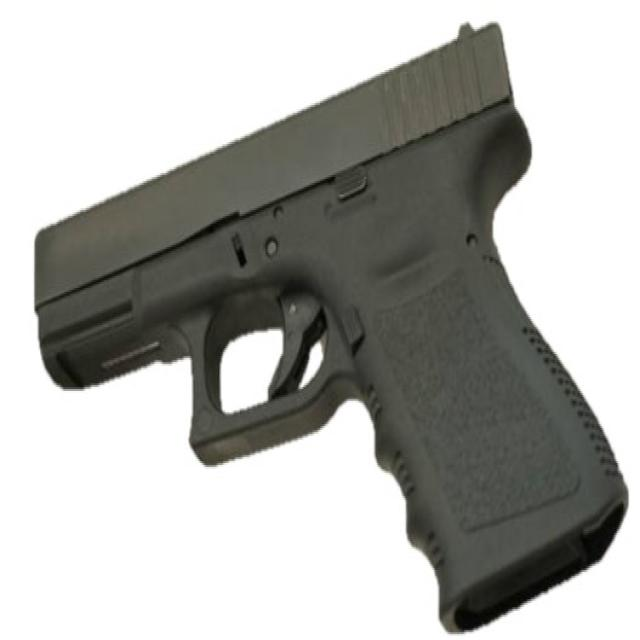pistol: (31, 15, 632, 636)
